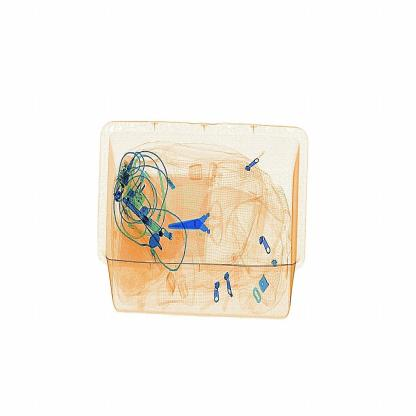gun: (165, 200, 233, 257)
